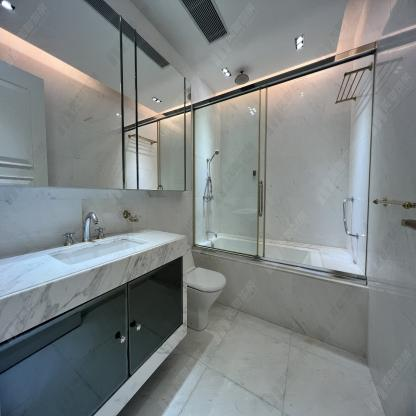Bathtub: (193, 235, 366, 359)
Faucet: (80, 209, 97, 246)
Toilet: (187, 244, 227, 332)
Toilet Sink: (41, 232, 157, 277)
